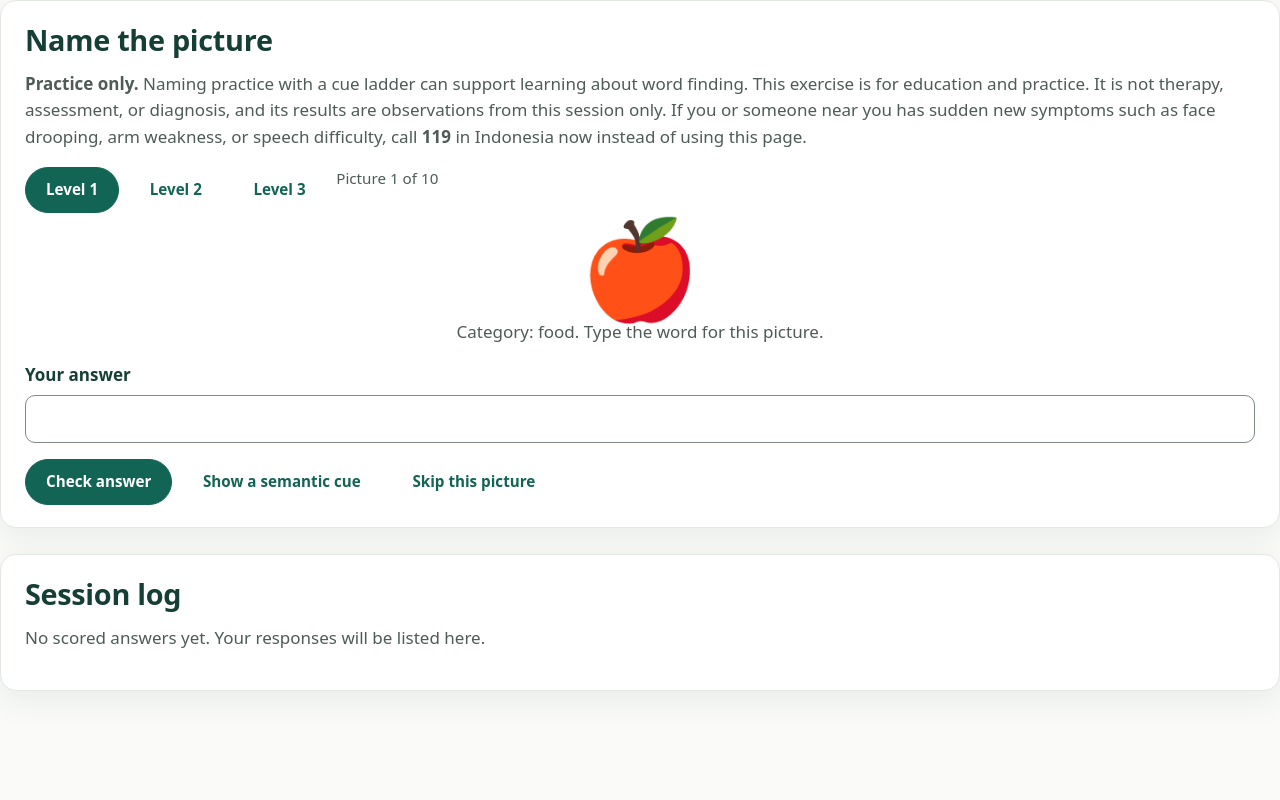
Test: AphasiaExpressionLab › scores a correct typed answer and records it in the session log
Expected: the text "Practice only." is shown, [25, 72, 138, 95]
Type "apple" into the field labelled "Your answer".
click(640, 419); type("apple")  # box [25, 395, 1255, 442]
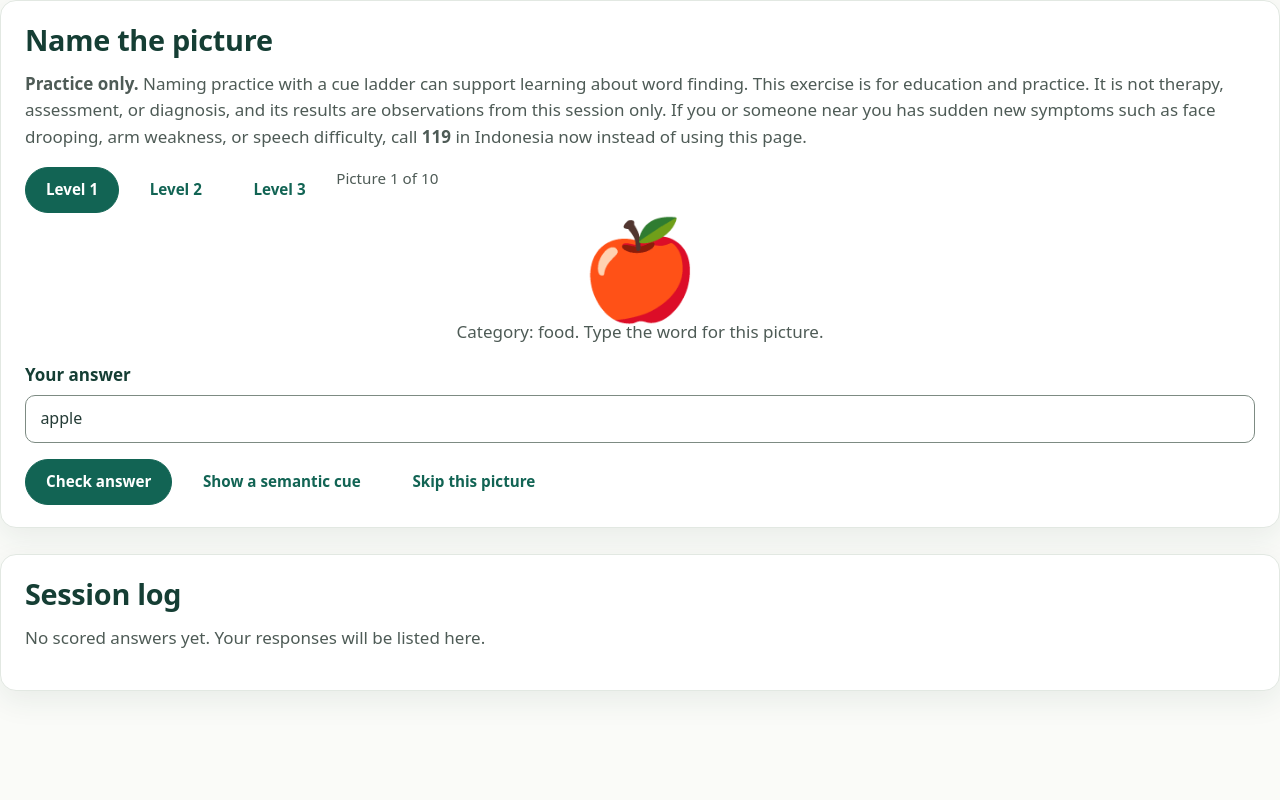
Click the button "Check answer".
click(99, 482)  # box [25, 458, 172, 505]
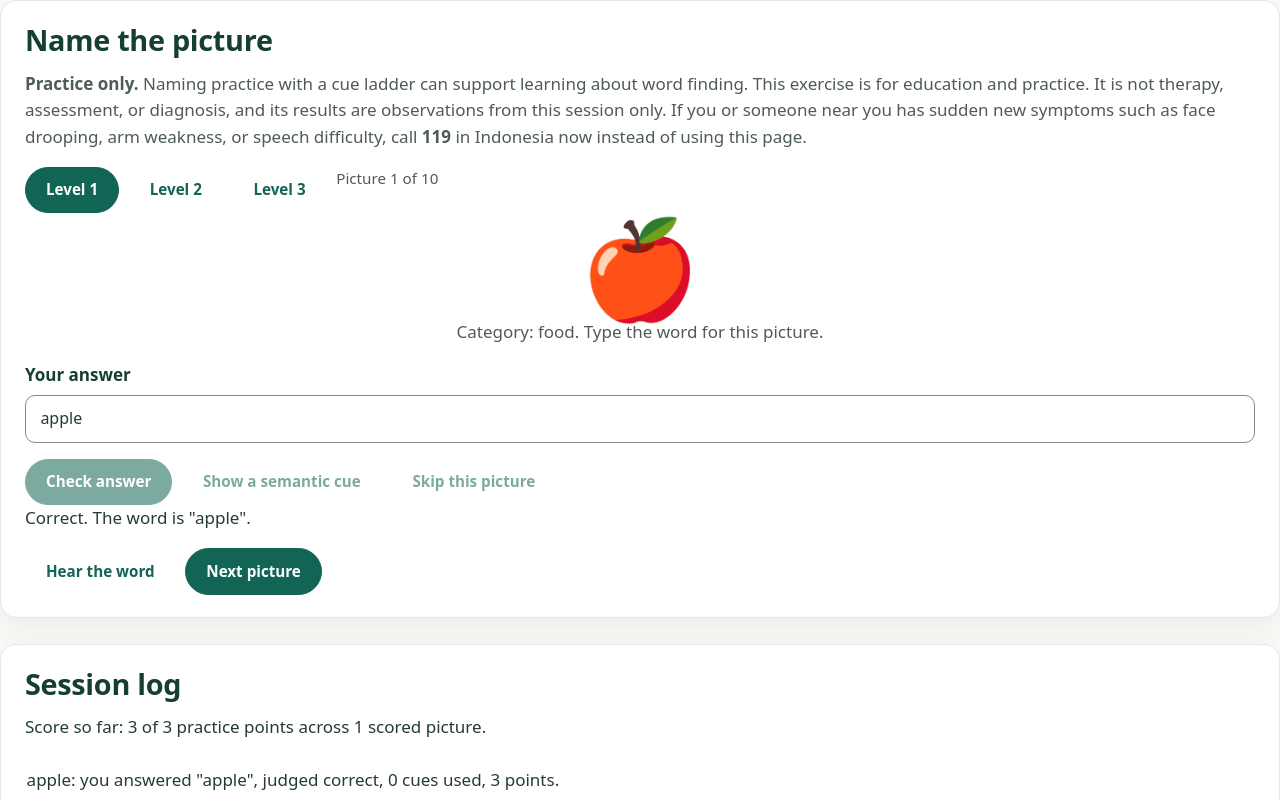
Expected: the text "Correct. The word is \"apple\"." is shown, [25, 506, 251, 529]
Expected: the text "Score so far: 3 of 3 practice points" is shown, [25, 715, 486, 738]
